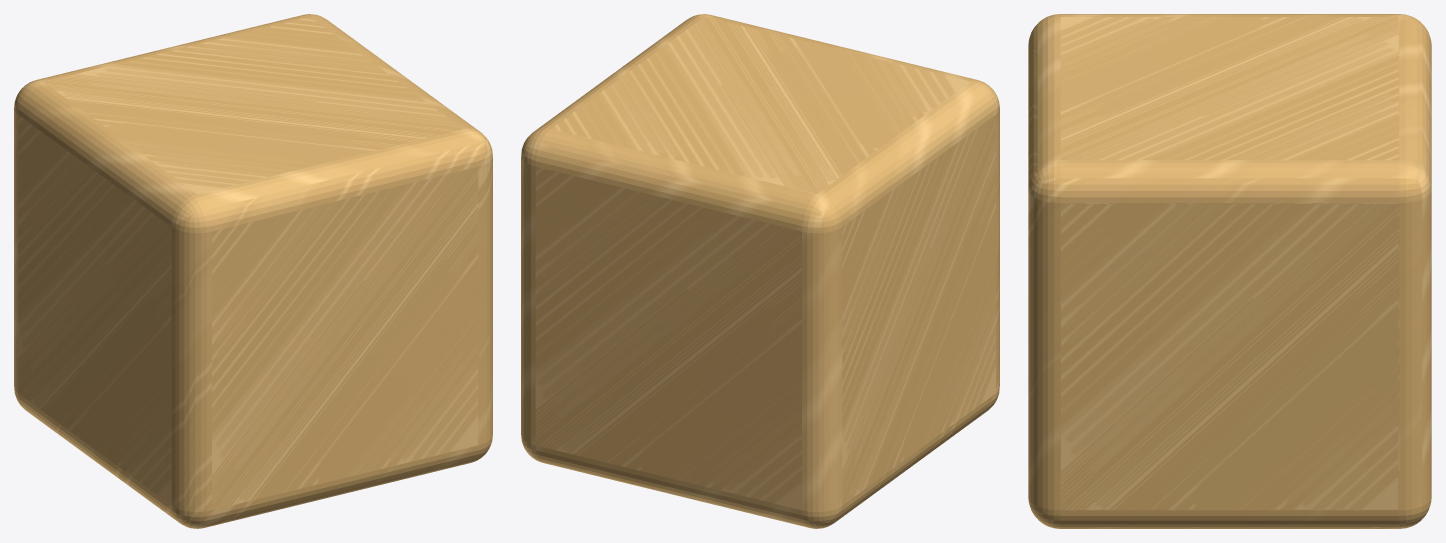
Rendered from Wood.obj.
3 renders of one model, left to right at view 1: azimuth 30°, elevation 25°; view 2: azimuth 150°, elevation 25°; view 3: azimuth 270°, elevation 25°, orthographic. The views are drawn at different scales.
Parts seen in each view (by area): view 1: 立方体.001; view 2: 立方体.001; view 3: 立方体.001.
Part boxes in pixels (<box>): 立方体.001: <box>14,14,492,528</box>; 立方体.001: <box>521,14,999,528</box>; 立方体.001: <box>1028,14,1431,528</box>.
Size of the model in its own units: 2 by 2 by 2.
1 material, 1 textured.
